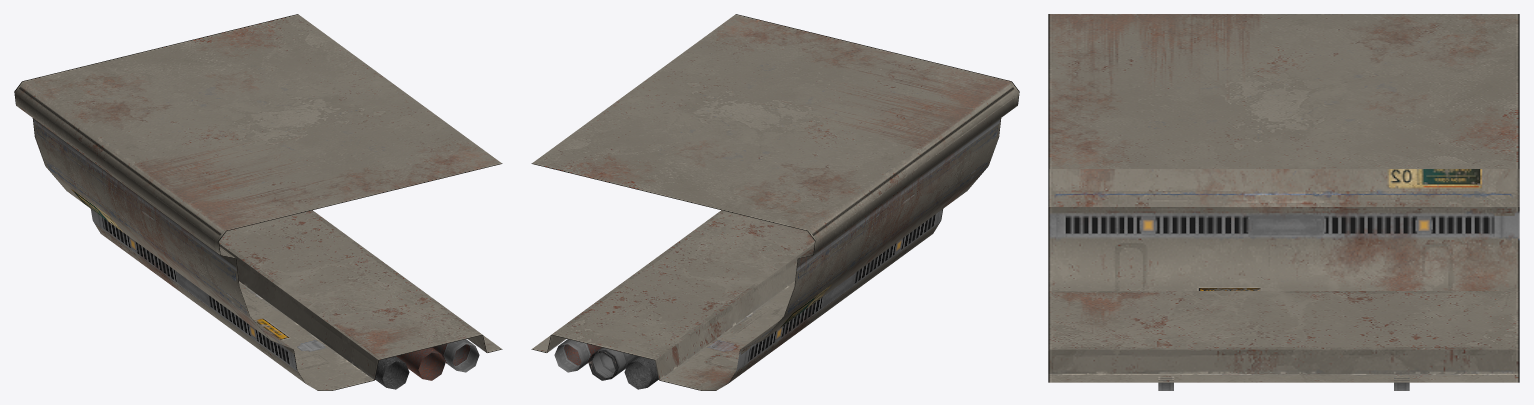
Rendered from CP_Canopy_Industrial_4m_02.fbx.
3 views of the same model, side by side, from view 1: azimuth 30°, elevation 25°; view 2: azimuth 150°, elevation 25°; view 3: azimuth 270°, elevation 25° (orthographic). The views are drawn at different scales.
Visible parts, largest first — view 1: CP_Canopy_Industrial_4m_02_LOD0; view 2: CP_Canopy_Industrial_4m_02_LOD0; view 3: CP_Canopy_Industrial_4m_02_LOD0.
Part boxes in pixels (x1=…): CP_Canopy_Industrial_4m_02_LOD0: x1=14, y1=14, x2=502, y2=390; CP_Canopy_Industrial_4m_02_LOD0: x1=531, y1=14, x2=1019, y2=390; CP_Canopy_Industrial_4m_02_LOD0: x1=1048, y1=14, x2=1519, y2=390.
Size of what is drawn, in the model's own units: 160 by 109 by 200.
